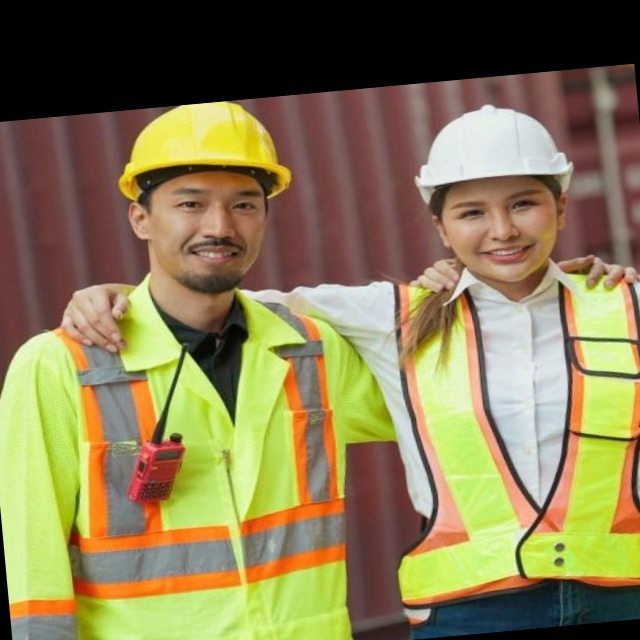Con_Casco: (116, 96, 298, 300), (405, 97, 584, 285)
Con_Chaleco: (10, 281, 364, 639), (365, 253, 640, 619)
